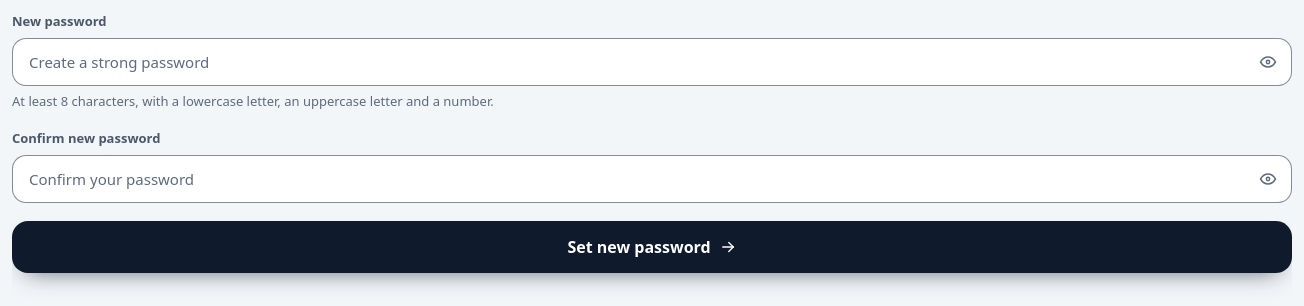
Test case: ResetPasswordForm validation › refuses PasswordOnly with the registration rule
Type "PasswordOnly" into the password field labelled "New password" at (652, 62), box [12,38,1292,86]
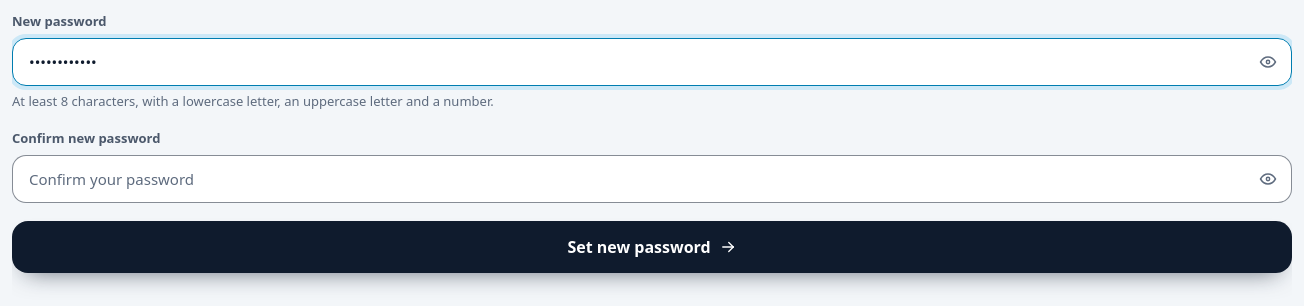
Type "PasswordOnly" into the password field labelled "Confirm new password" at (652, 178), box [12,154,1292,202]
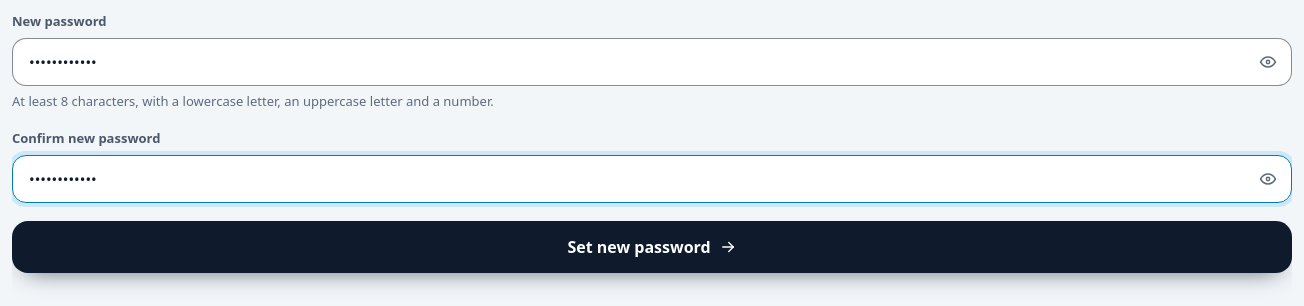
Click the button "Set new password" at (652, 246), box [12,220,1292,272]
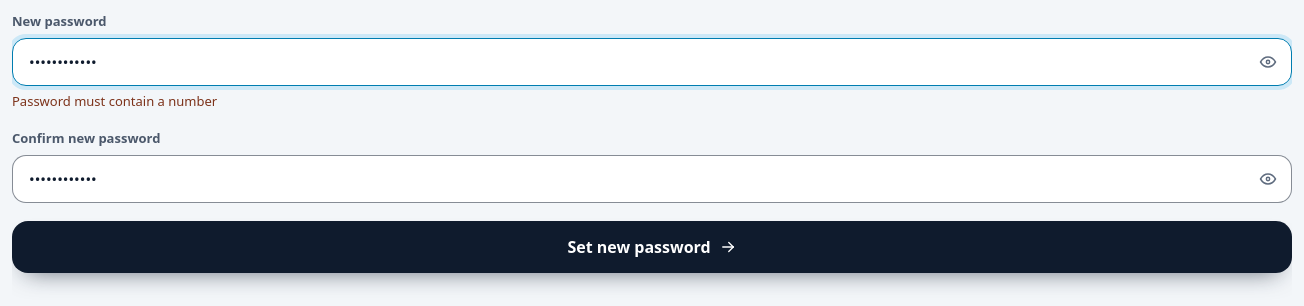
Now the text "Password must contain a number" is shown, box [12,92,217,110]
